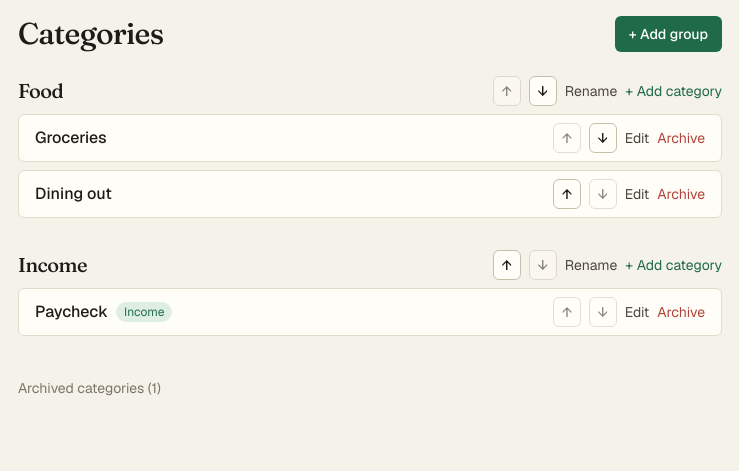
CategoriesPage › keeps archived categories out of groups and inside the archived section
This screenshot has width=739, height=471.
Check: the element "Food" is shown, box [18, 76, 722, 218]
Check: the text "Old Hobby" is not shown
Click the button "Archived categories (1)": click(89, 388) [18, 378, 161, 398]
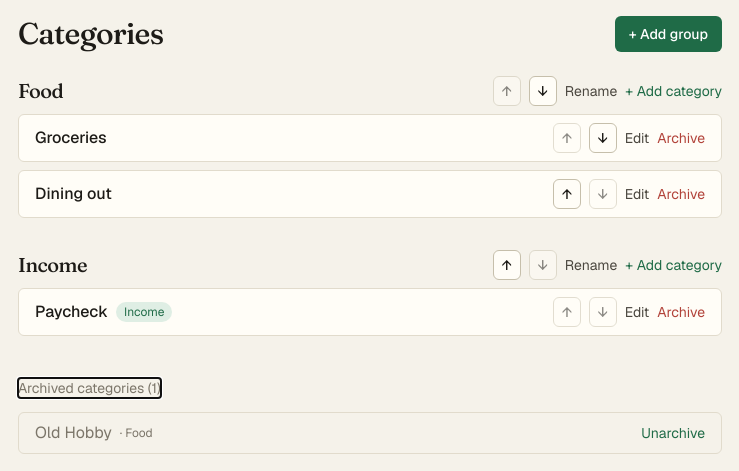
Check: the list item "Old Hobby · Food Unarchive" is shown, box [18, 412, 722, 454]
Check: the text "· Food" is shown, box [120, 425, 153, 441]
Check: the button "Unarchive" is shown, box [641, 423, 705, 443]
